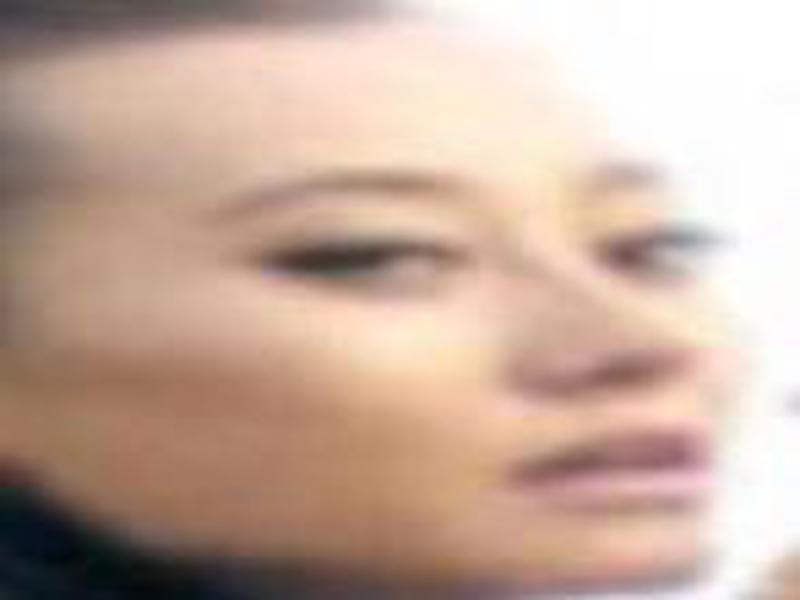without_mask: (19, 29, 748, 584)
